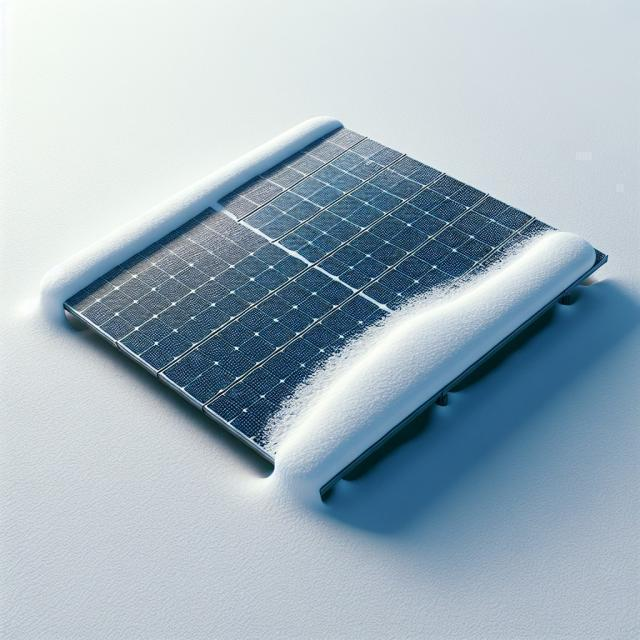Anomaly Solar Panel: (42, 0, 606, 541)
Snow: (240, 176, 602, 499), (39, 95, 342, 304)
